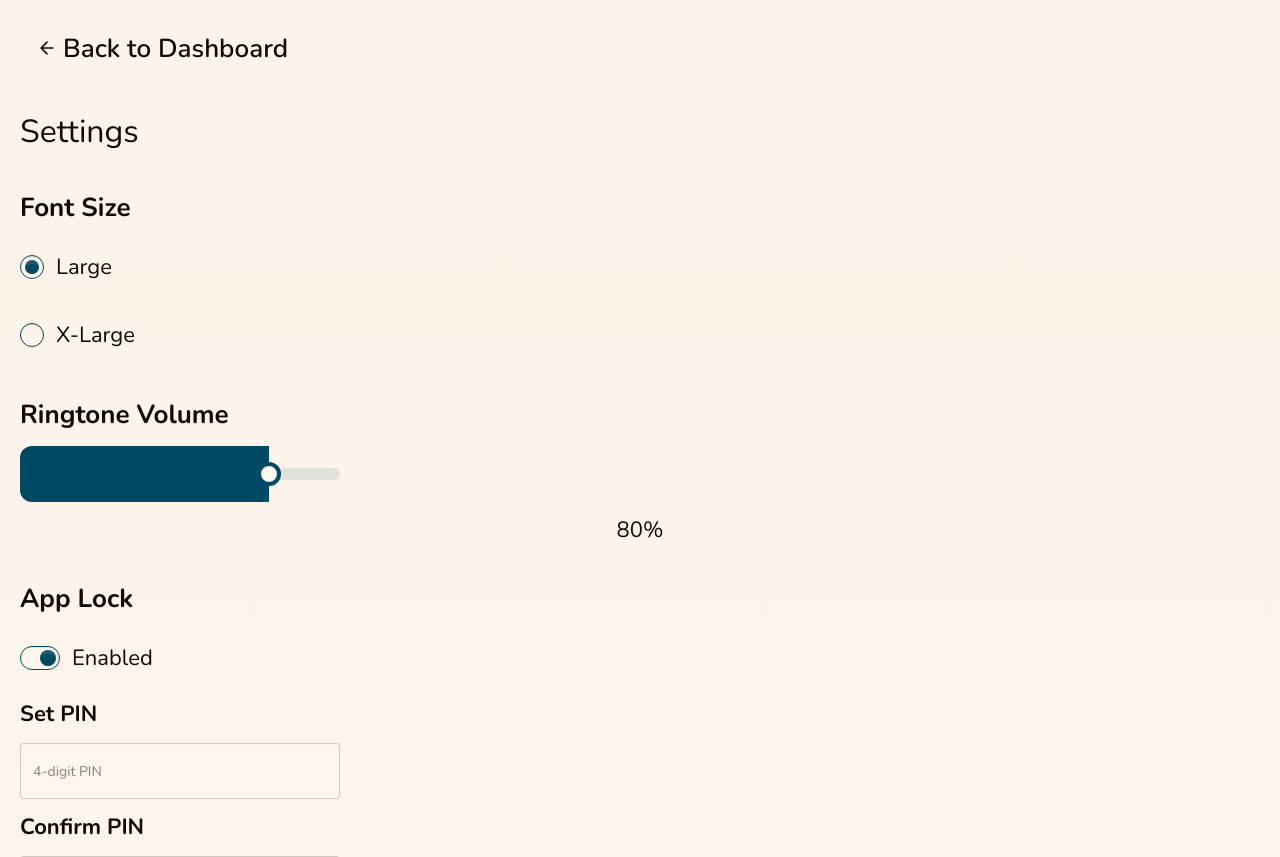
it: ElderlyUserSettings › PIN validation: mismatched PINs show error
In the password field labelled "Set PIN": (180, 771) [20,743,340,799], type "1234"
(page scrolled)
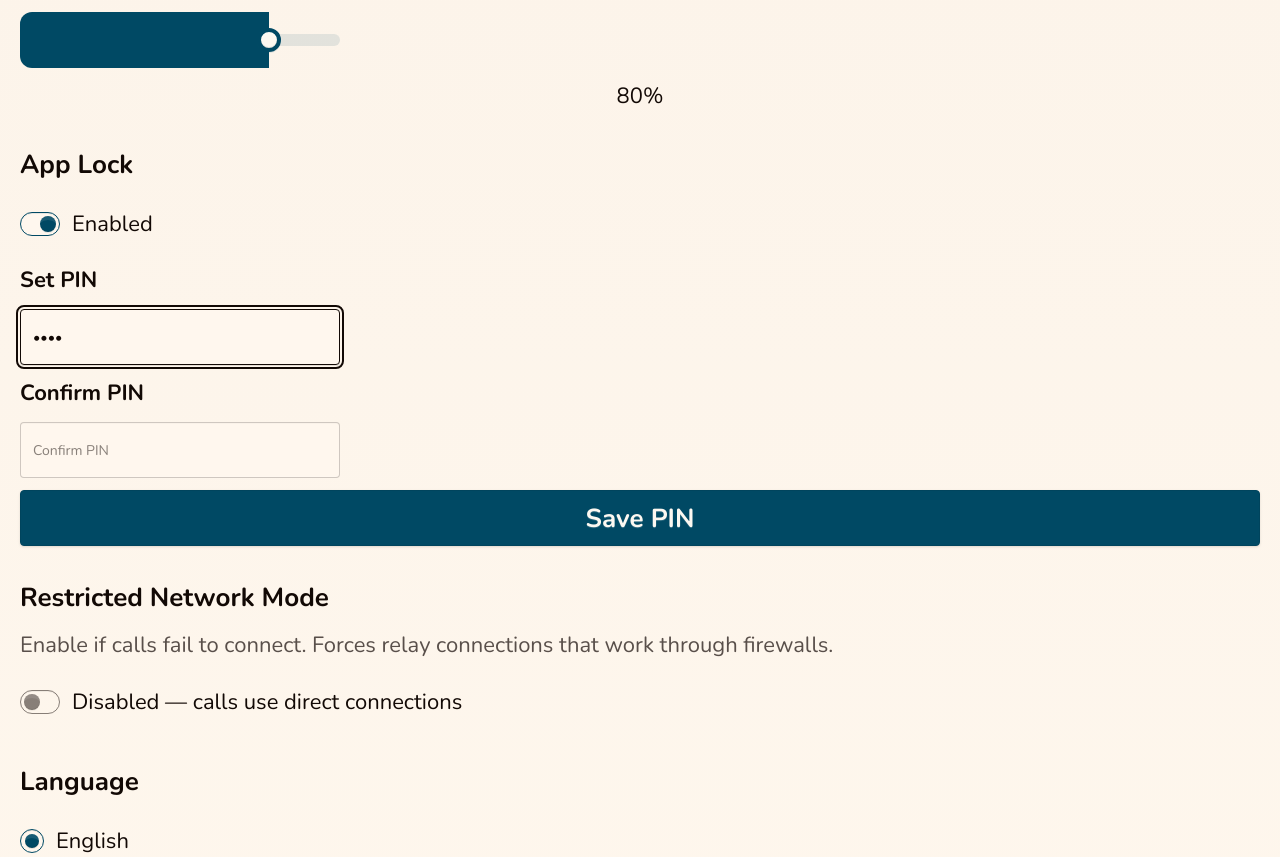
In the password field labelled "Confirm PIN": (180, 450) [20,422,340,478], type "5678"
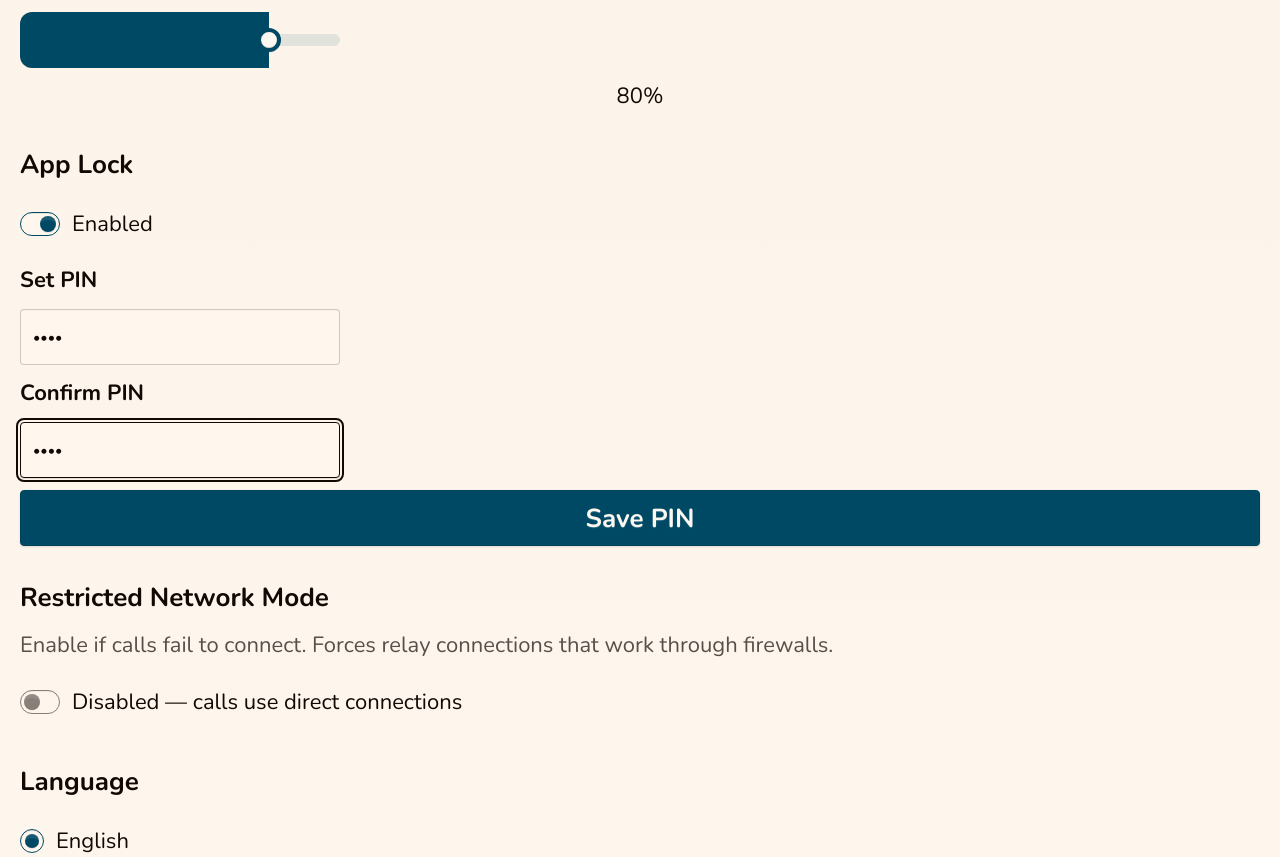
Click the button "Save PIN": (640, 518) [20,490,1260,546]
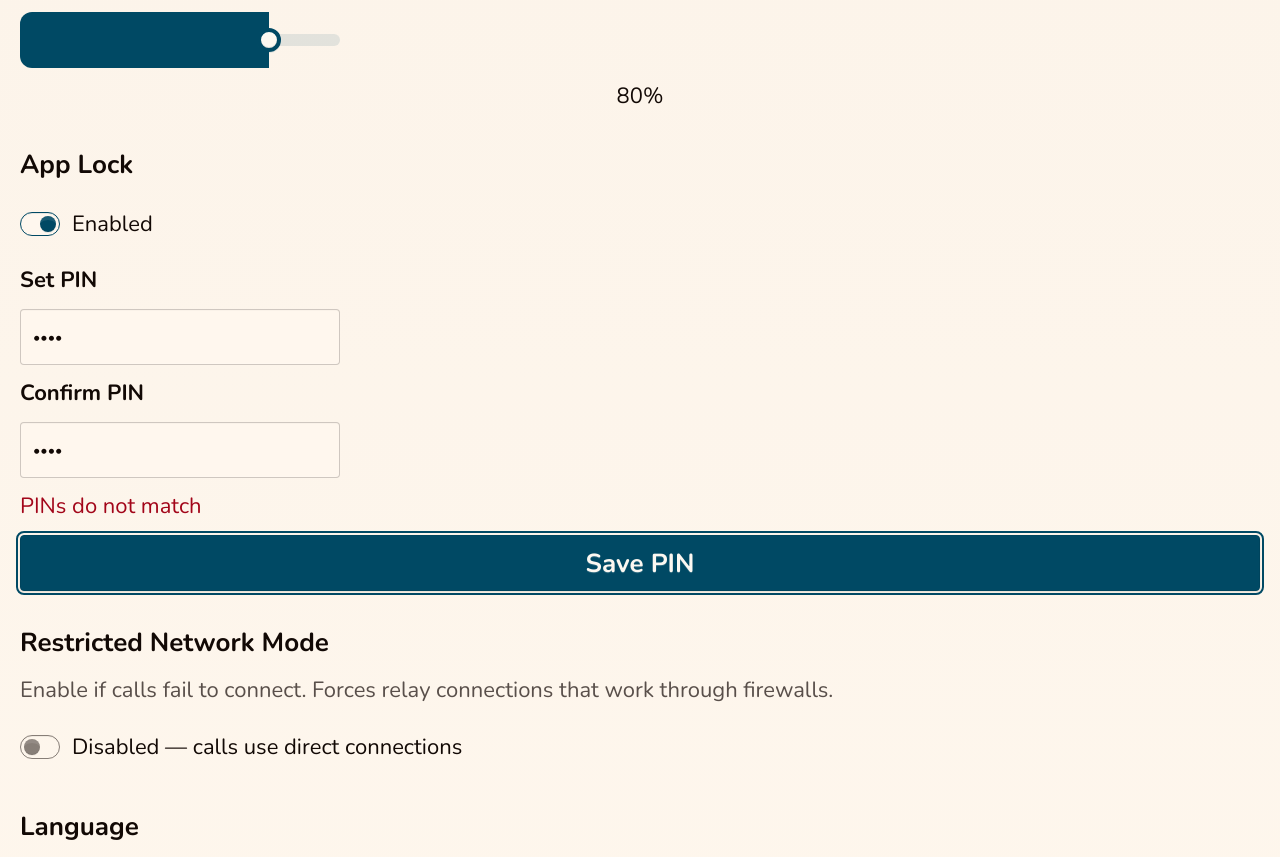
Result: the message shows "do not match" at [20,491,202,521]
